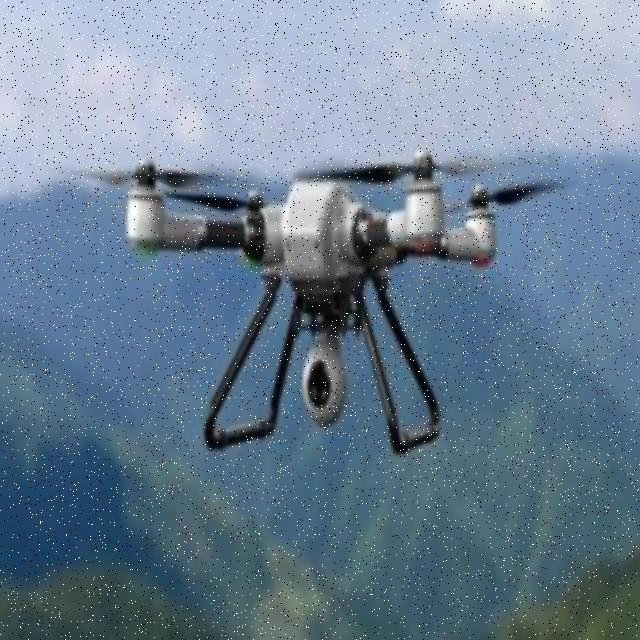UAV: (122, 143, 502, 455)
